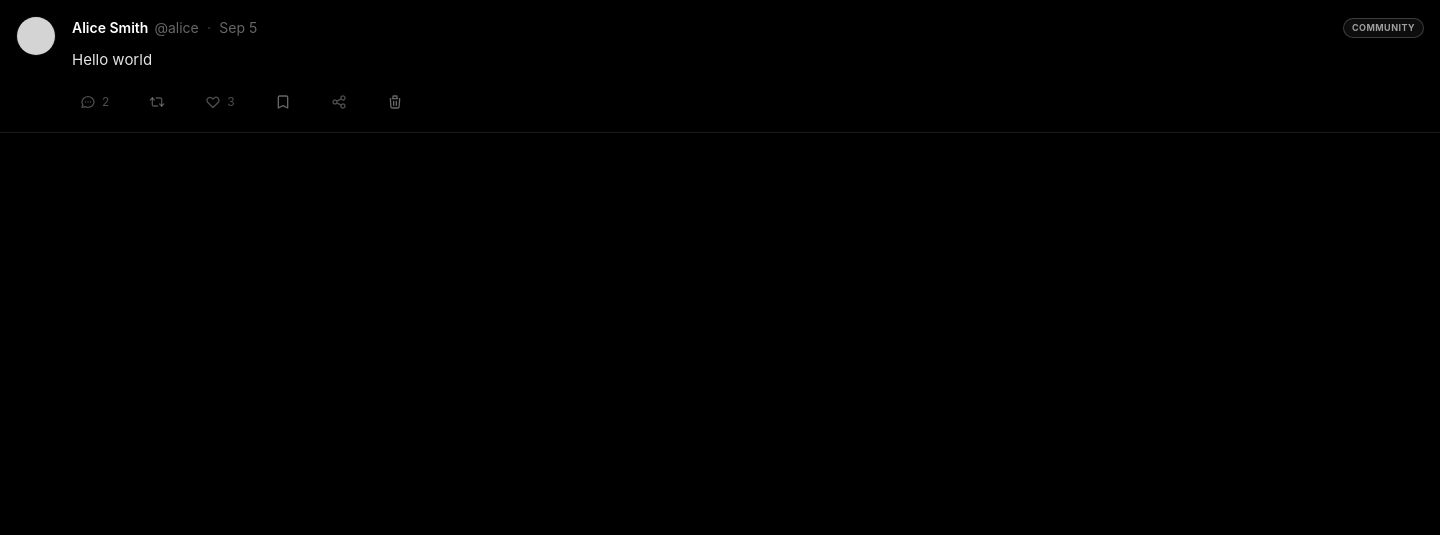
Test case: PostCard › closes the delete modal after handleDelete resolves to true
This screenshot has width=1440, height=535.
Step 1. Click the button named "delete post" → (395, 102), box [379, 88, 411, 116]
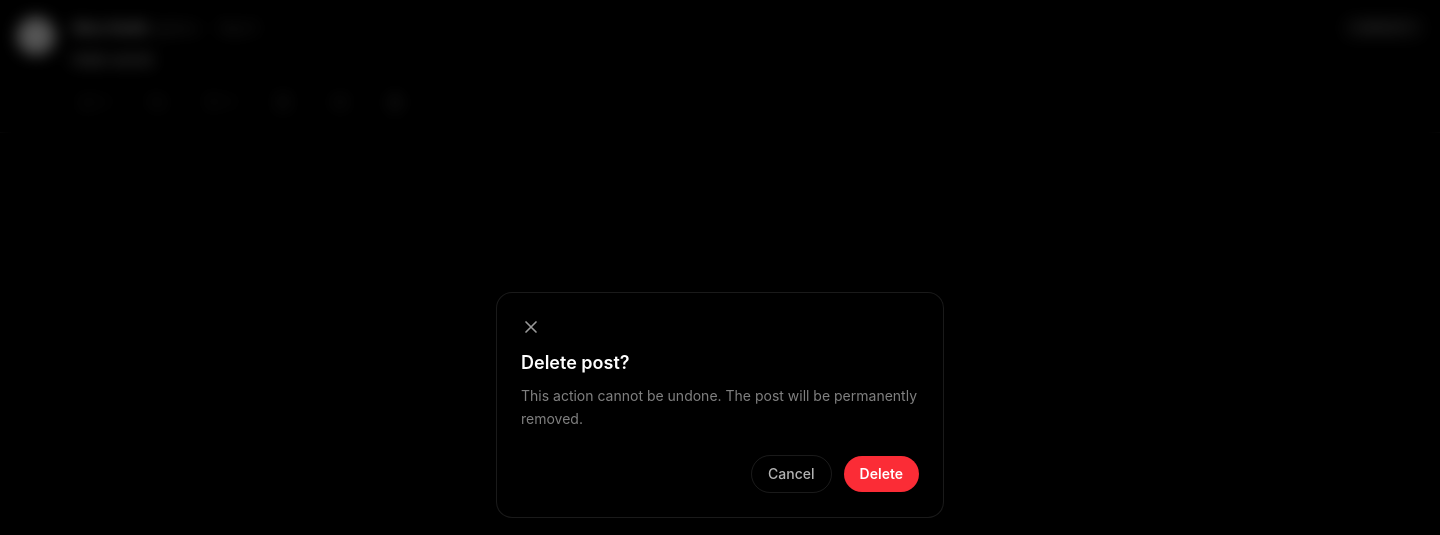
Expected: the heading "Delete post?" is shown, [521, 352, 630, 373]
Step 2. Click the button "Delete" → (881, 474), box [844, 456, 919, 492]
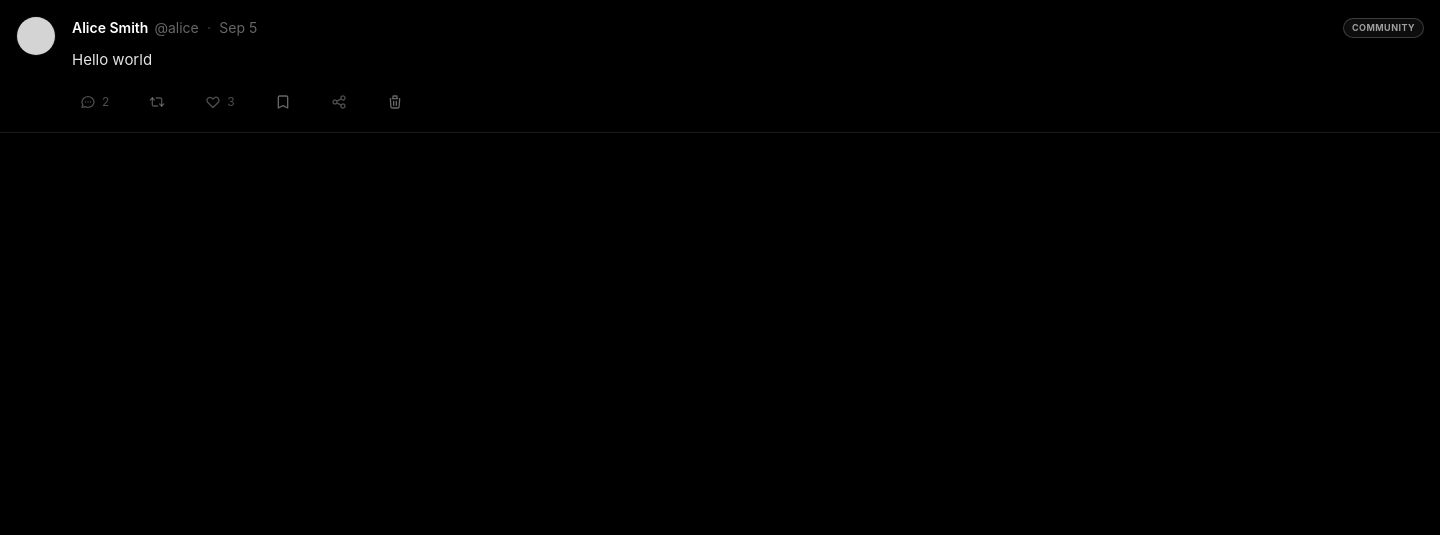
Expected: the heading "Delete post?" is gone
